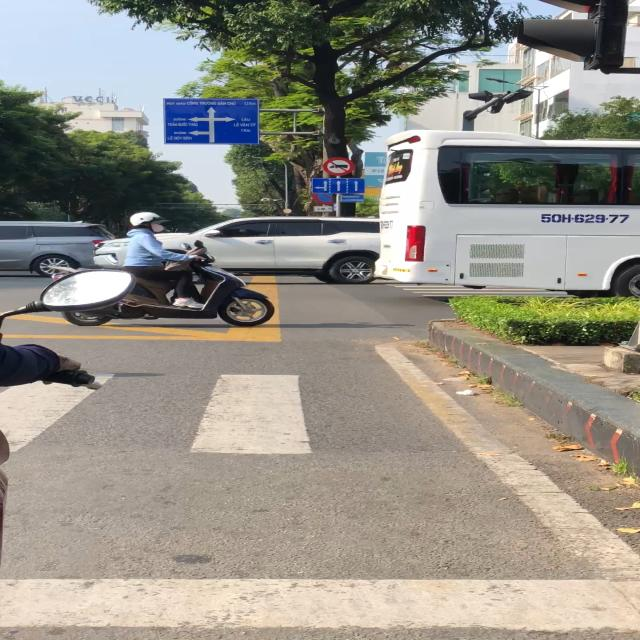Bien bao cam xe so-mi ro-mooc: (317, 154, 356, 176)
